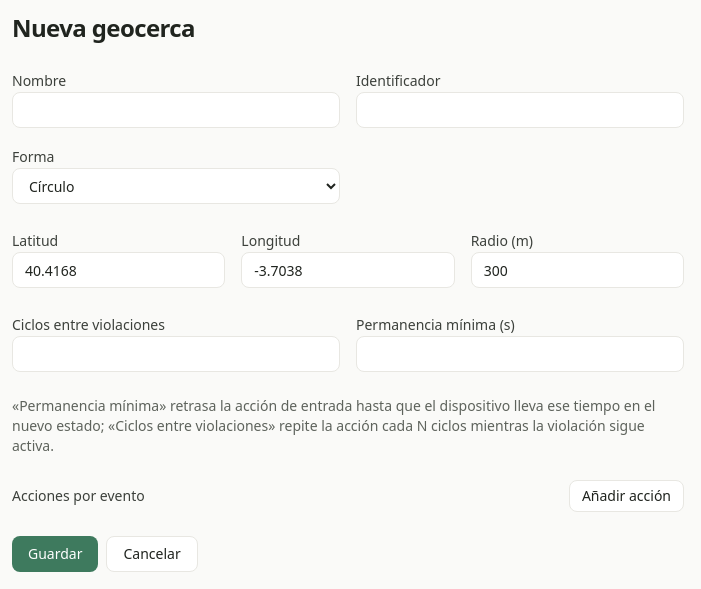
Scenario: evita el id reservado 'none' al generar el slug desde el nombre (M1-R12)
In the field labelled "Nombre": (176, 110) [12,92,340,128], type "None"
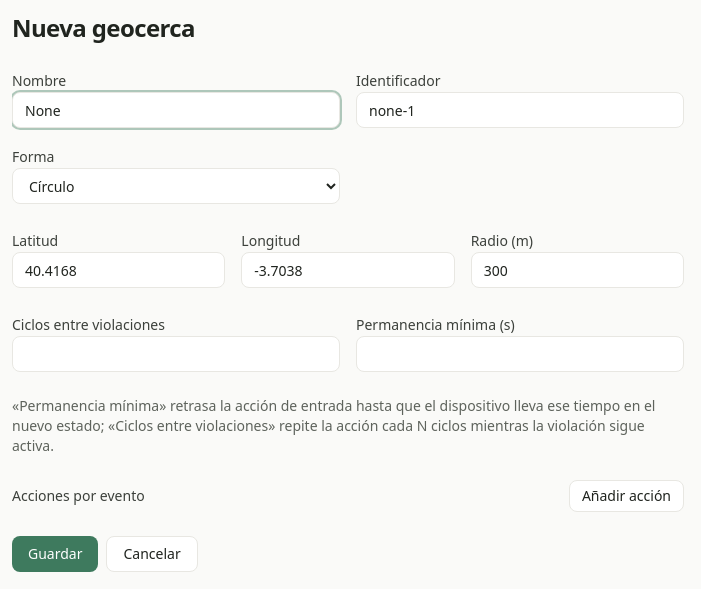
Expected: the field labelled "Identificador" does not hold "none", [356,92,684,128]
